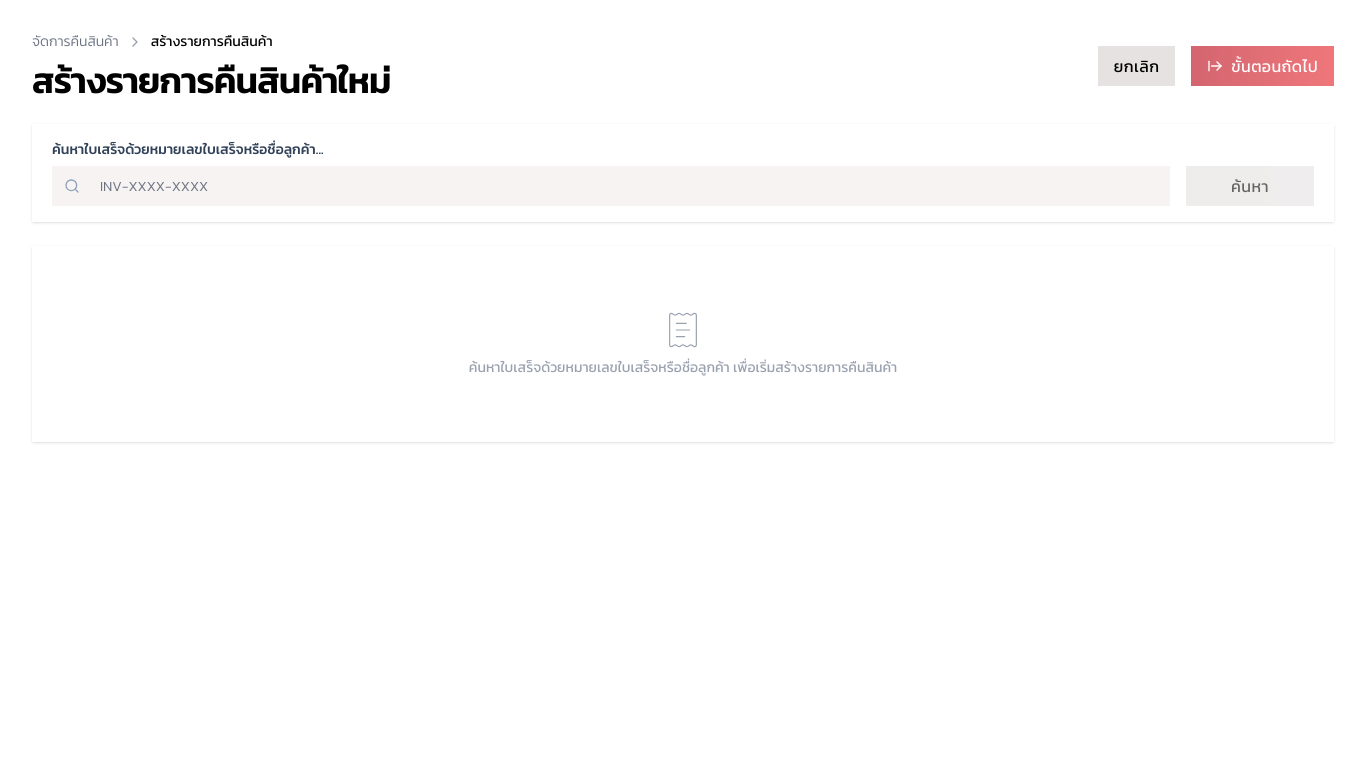
New return › requires a sale order and at least one checked product before continuing
Expected: the button "ขั้นตอนถัดไป" is disabled, [1191,46,1334,86]
Type "SO-TEST" into the field with placeholder "INV-XXXX-XXXX" at (611, 186), box [52,166,1170,206]
Then press Enter
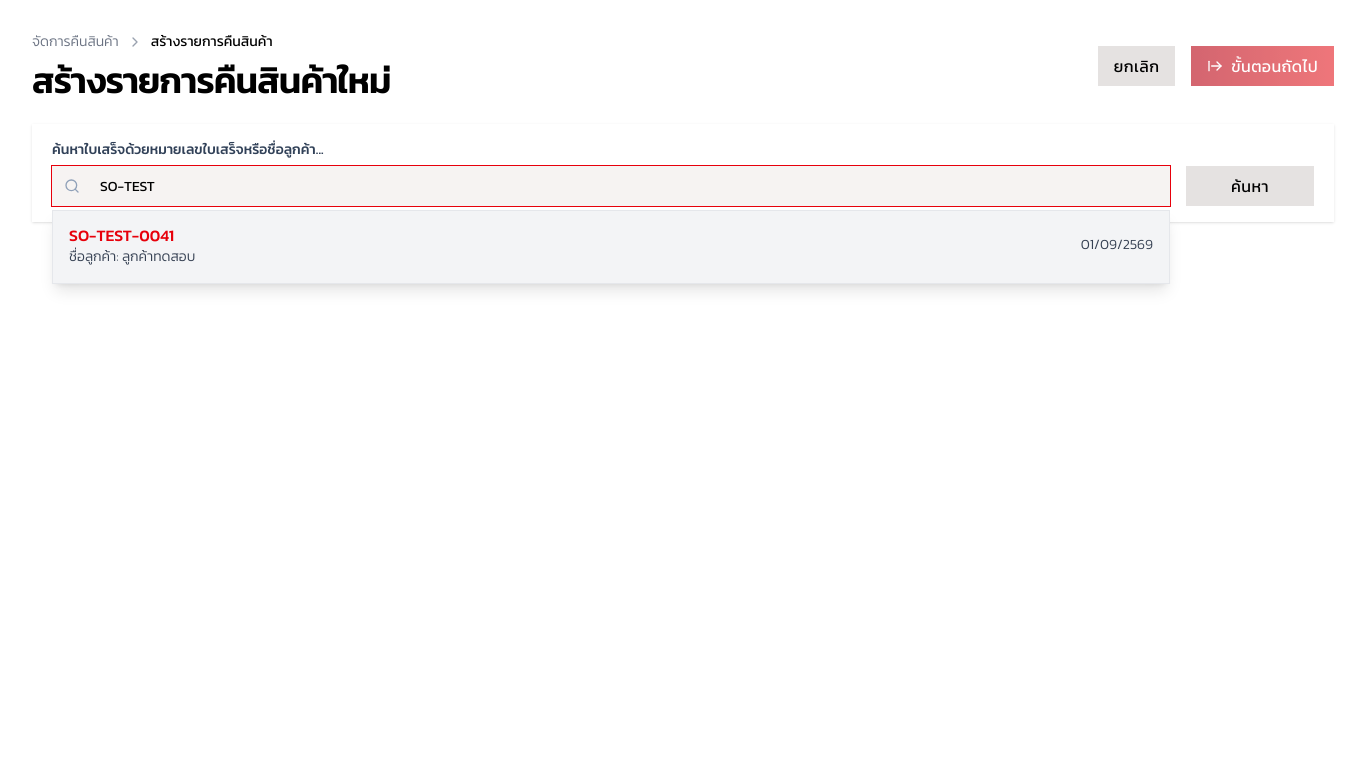
Click the button "SO-TEST-0041 ชื่อลูกค้า: ลูกค้าทดสอบ 01/09/2569" at (122, 235), box [53,211,1169,283]
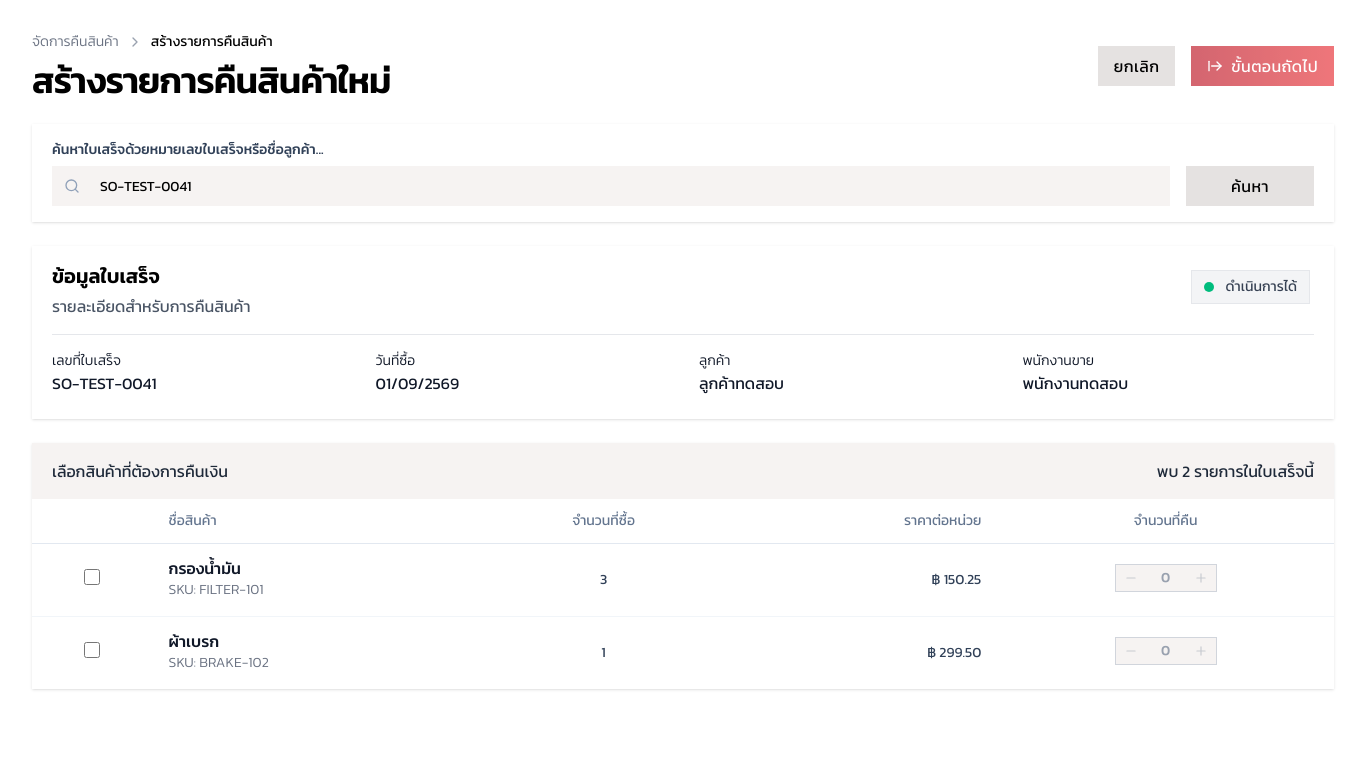
Expected: the button "ขั้นตอนถัดไป" is disabled, [1191,46,1334,86]
Expected: the field in the row of "กรองน้ำมัน" is disabled, [1146,568,1186,588]
Click the checkbox next to "กรองน้ำมัน" at (92, 577), box [84,569,100,585]
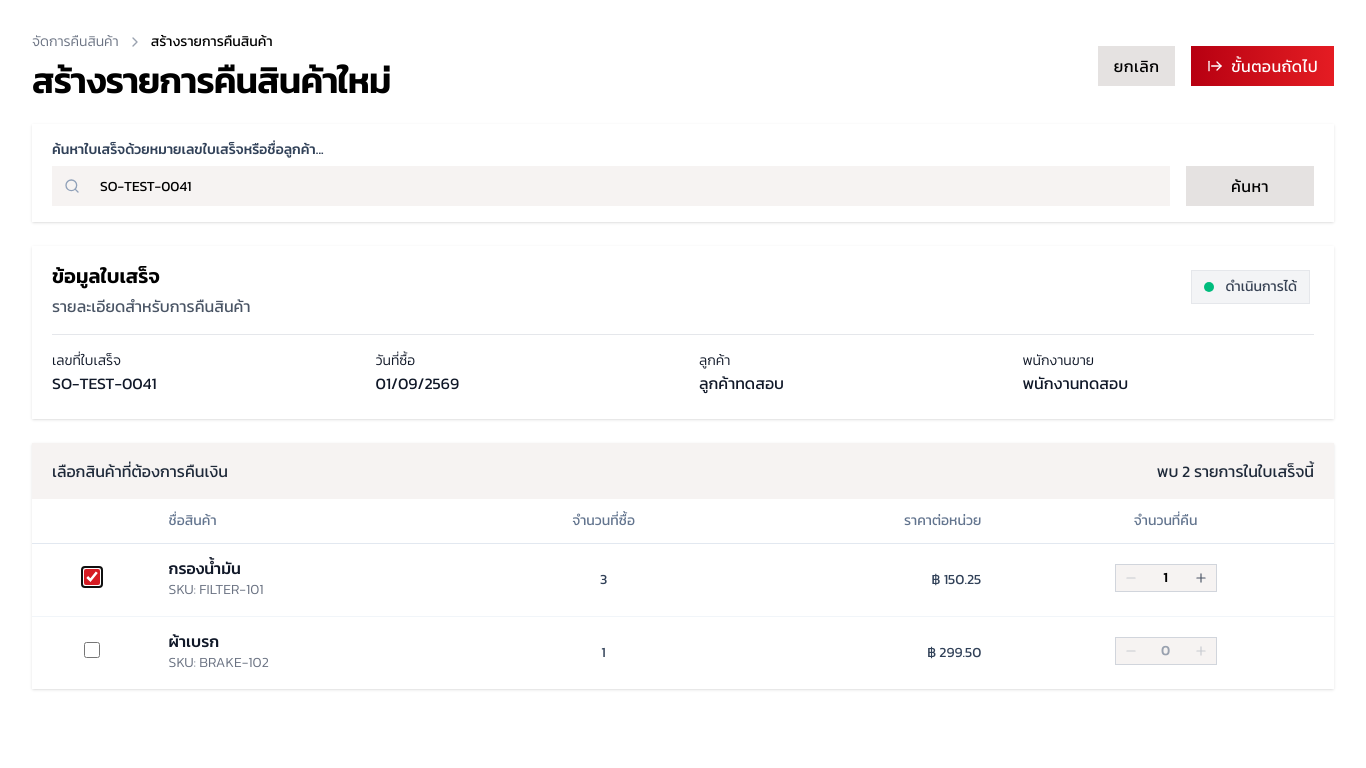
Expected: the field in the row of "กรองน้ำมัน" holds "1", [1146,568,1186,588]
Expected: the button "ขั้นตอนถัดไป" is enabled, [1191,46,1334,86]
Click the checkbox next to "กรองน้ำมัน" at (92, 577), box [84,569,100,585]
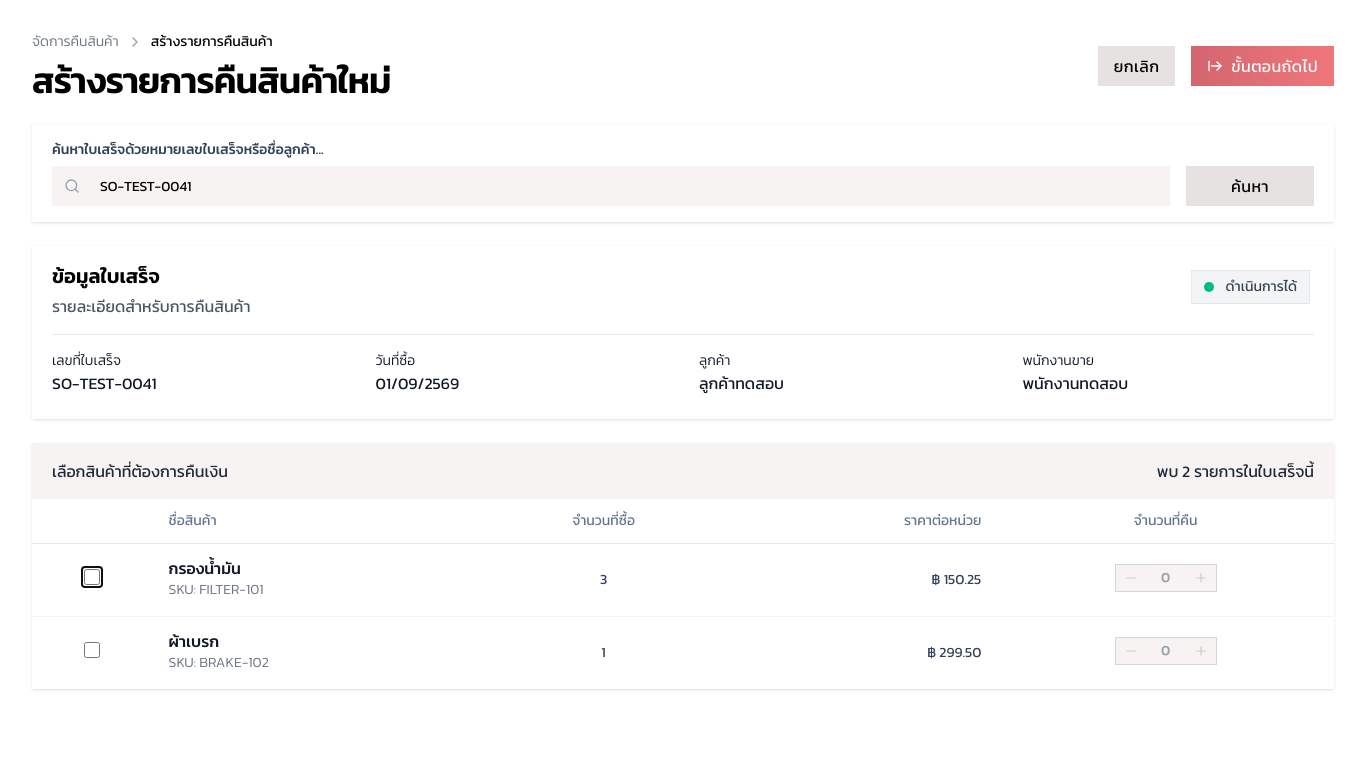
Expected: the field in the row of "กรองน้ำมัน" holds "0", [1146,568,1186,588]
Expected: the button "ขั้นตอนถัดไป" is disabled, [1191,46,1334,86]
